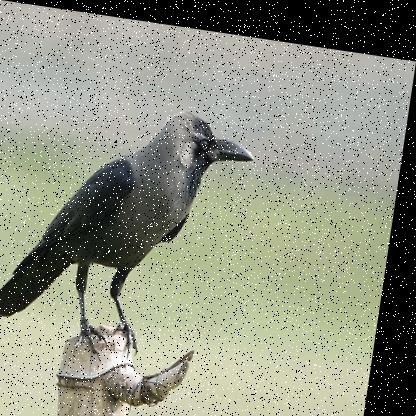Burung: (0, 84, 263, 372)
